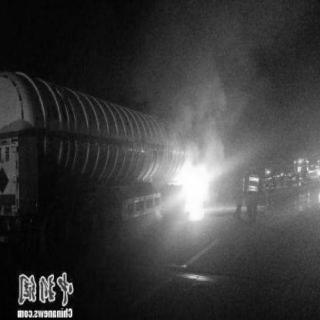Fire: (170, 136, 221, 234)
other: (286, 133, 318, 183)
